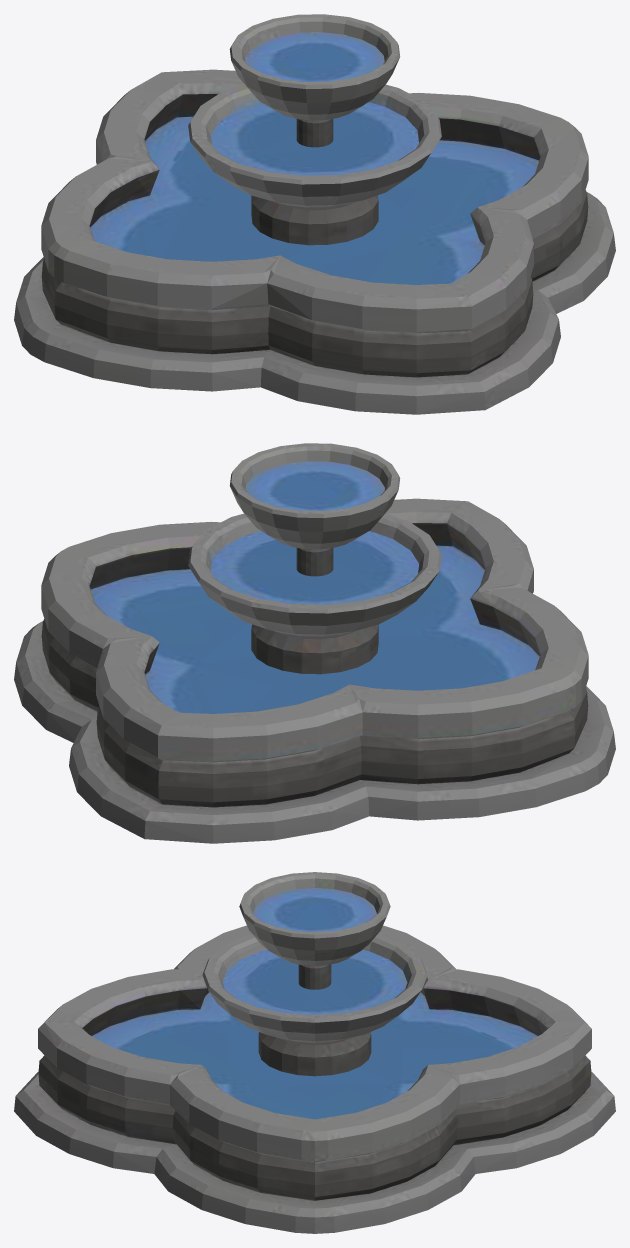
The model's file is fountain.glb.
The picture shows the model from 3 angles, top to bottom: view 1: azimuth 30°, elevation 25°; view 2: azimuth 150°, elevation 25°; view 3: azimuth 270°, elevation 25°; orthographic projection. The views are drawn at different scales.
Visible parts, largest first — view 1: fountain; view 2: fountain; view 3: fountain.
Boxes of the visible parts, bbox=[...] form: fountain: bbox=[14, 14, 615, 414]; fountain: bbox=[14, 443, 615, 843]; fountain: bbox=[14, 872, 615, 1233].
Bounding box in the file's own units: 1.73 × 0.6864 × 1.8.
Materials: 1 (1 with a texture image).
